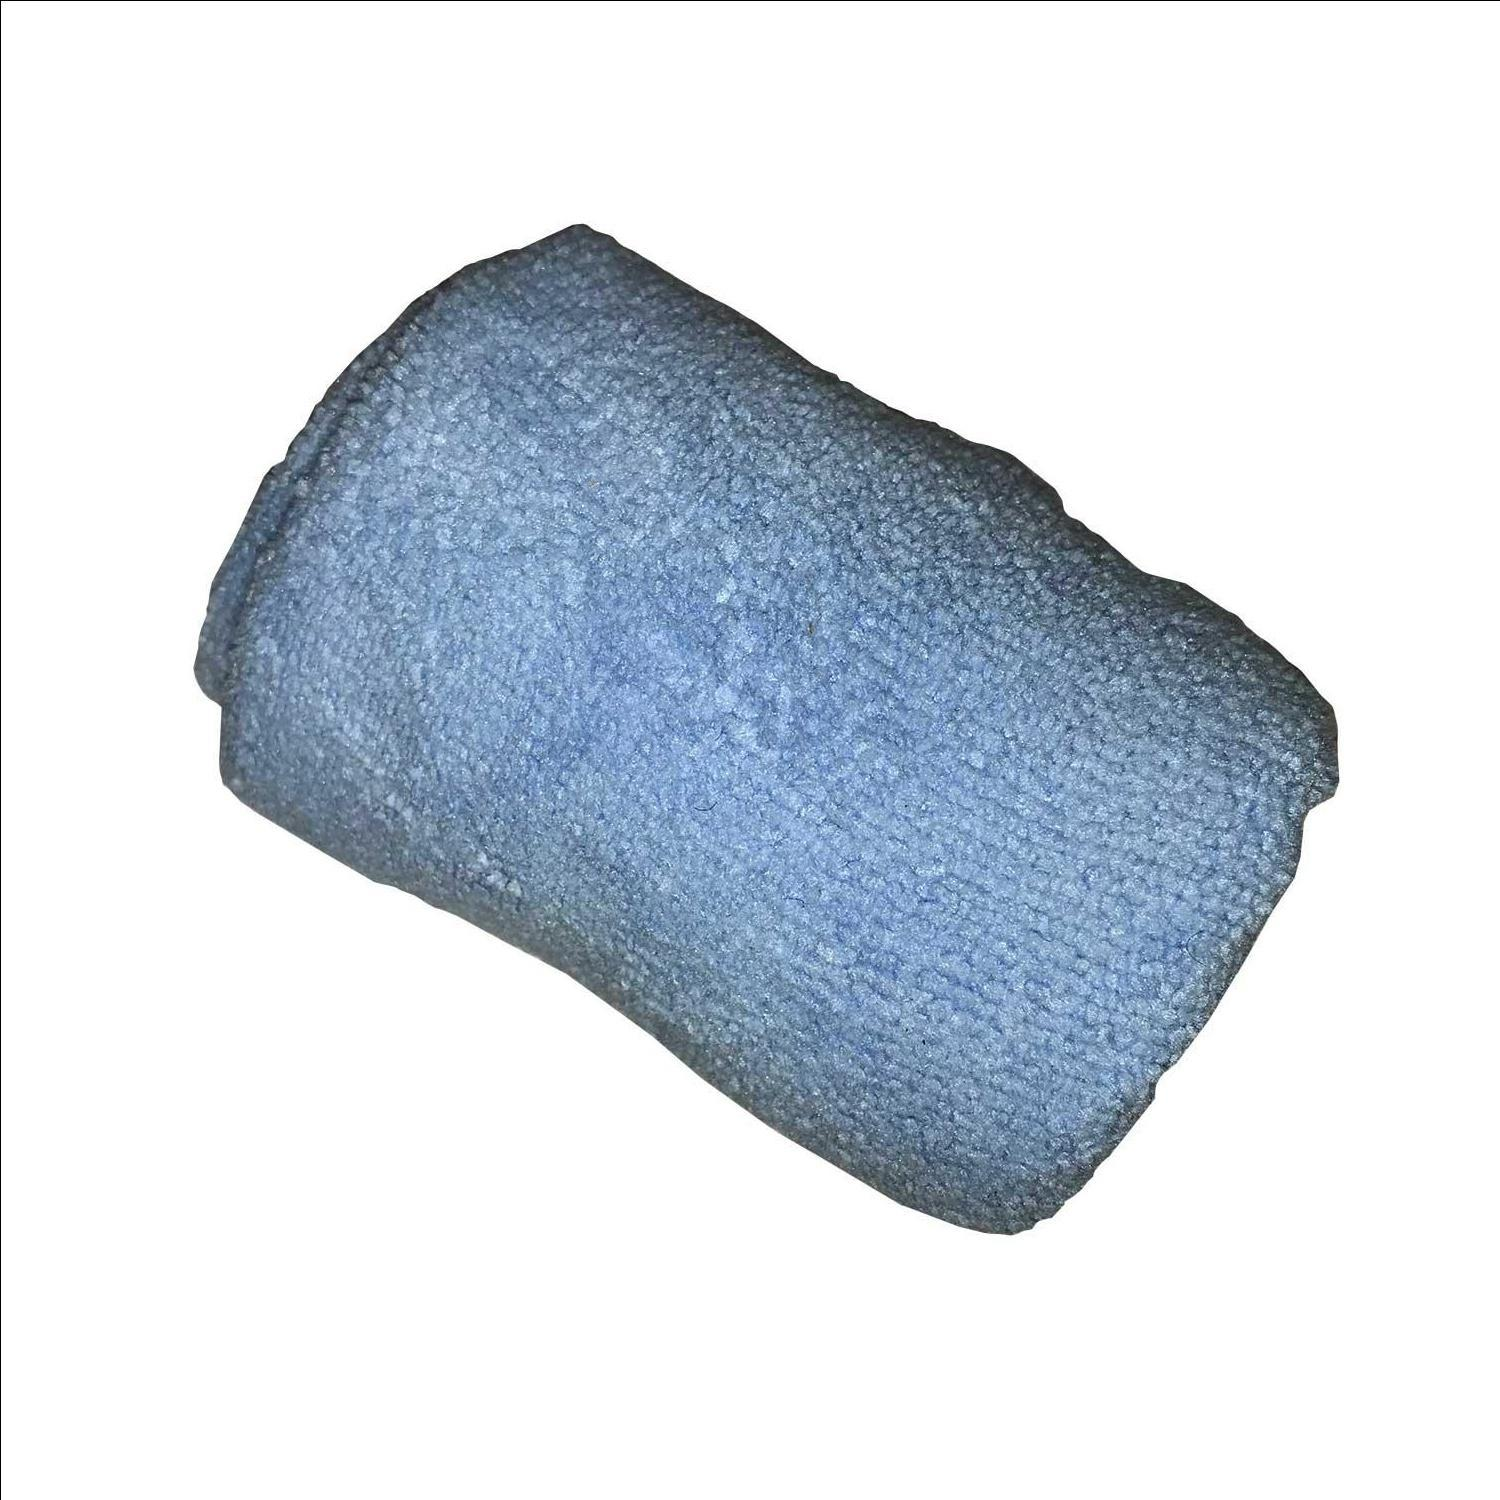towel: (124, 177, 1416, 1283)
